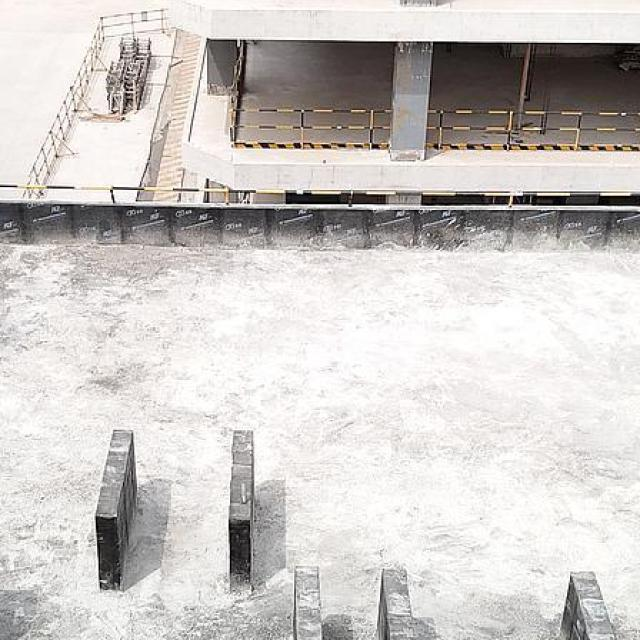edge_guardrail: (211, 61, 393, 149), (0, 183, 640, 208), (424, 108, 640, 152)
